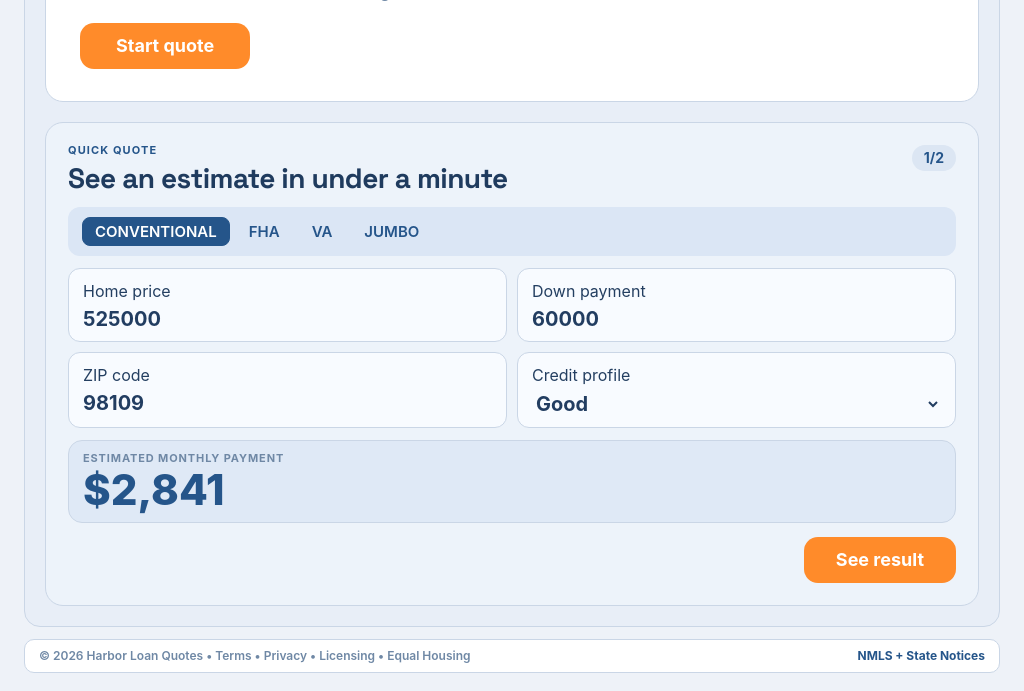
Borrower demo app › submits a public quote from the home experience
(page scrolled)
Click the button "See result" at point(880, 560), box [804,537,956,583]
(page scrolled)
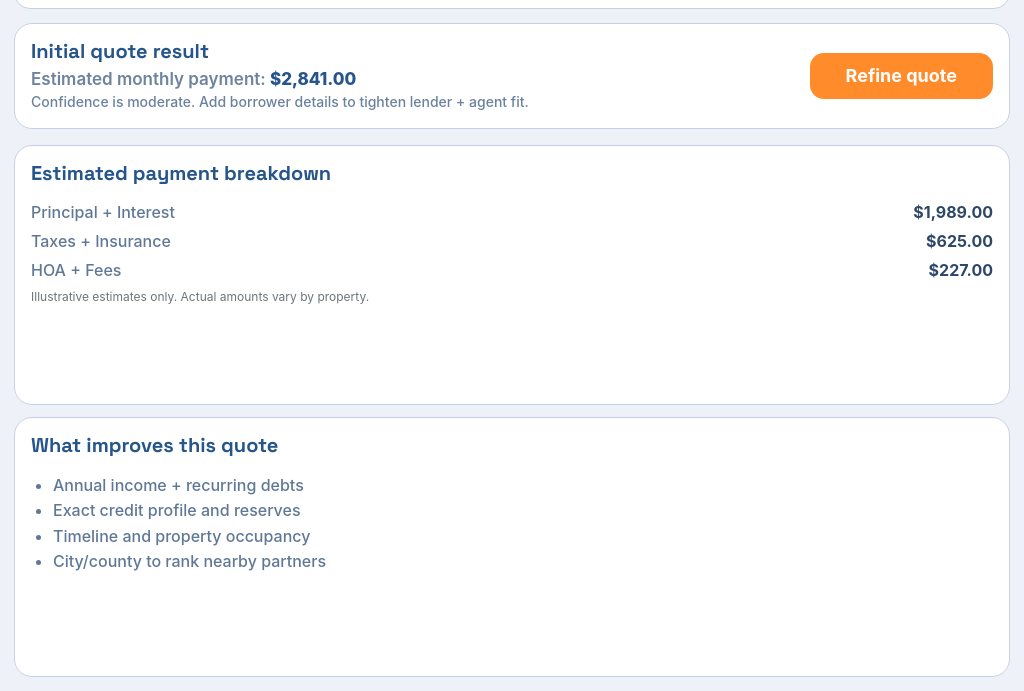
Check: the heading "Initial quote result" is shown, box [31,38,209,64]
Check: the text "Confidence is moderate. Add borrower details to tighten lender + agent fit." is shown, box [31,93,529,112]
